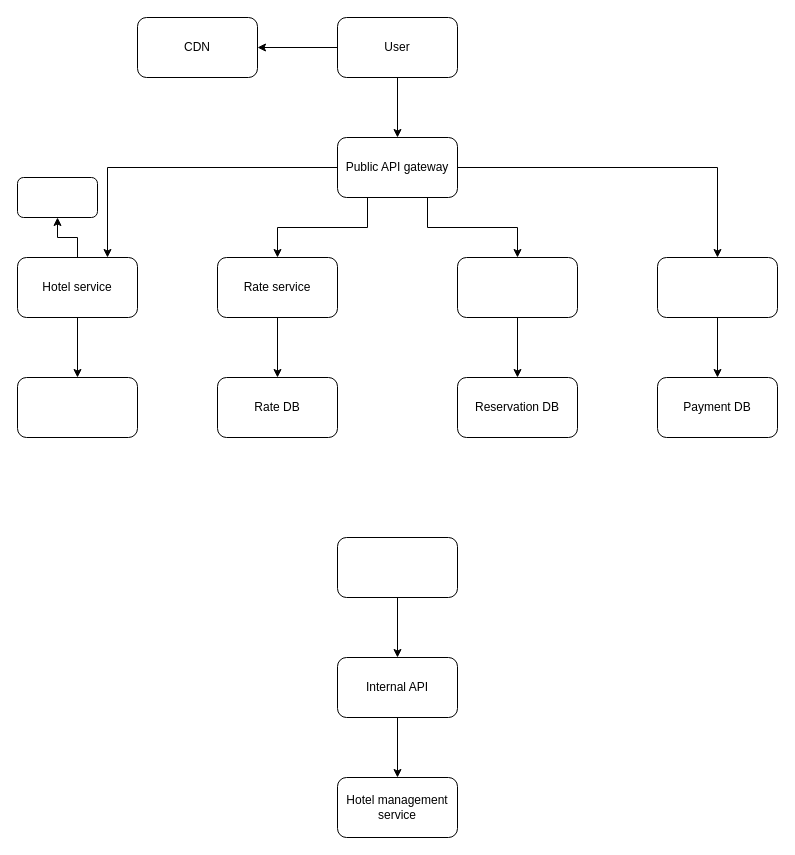
The diagram is 795 pixels wide and 855 high, and some of its shapes have lost their labels. Each missing label, with the box of its shape:
Admin: (336, 536, 458, 598)
Hotel cache: (16, 176, 98, 218)
Hotel DB: (16, 376, 138, 438)
Payment service: (656, 256, 778, 318)
Reservation service: (456, 256, 578, 318)
